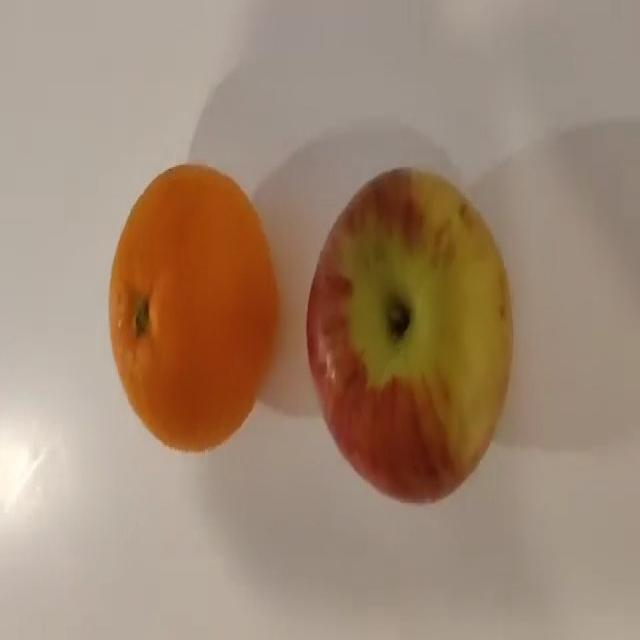Apple: (305, 165, 514, 504)
Orange: (107, 162, 279, 453)
